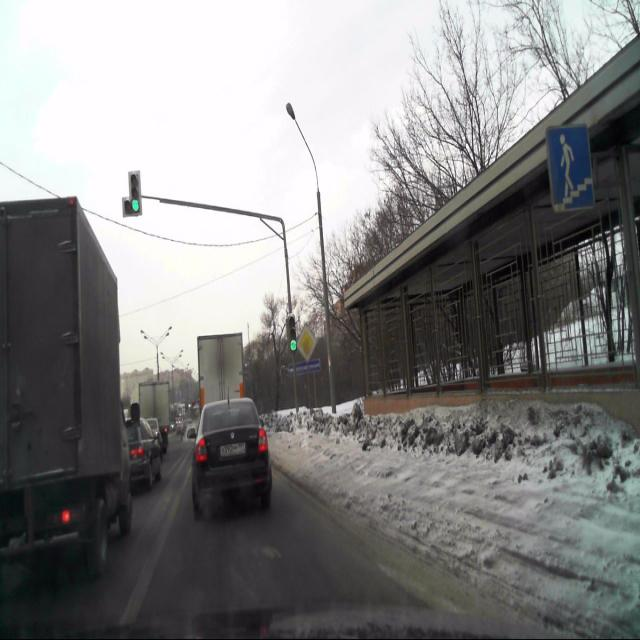road sign: (547, 124, 596, 212), (294, 326, 317, 365)
